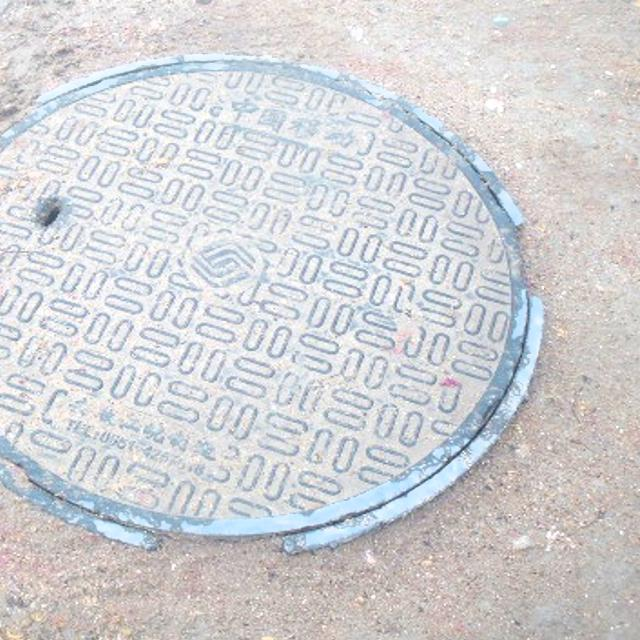good: (0, 51, 542, 552)
